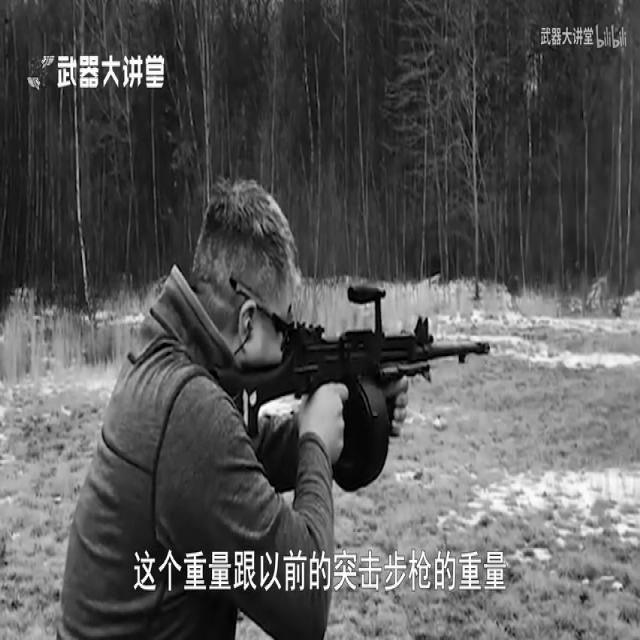Sniper: (120, 225, 571, 561)
